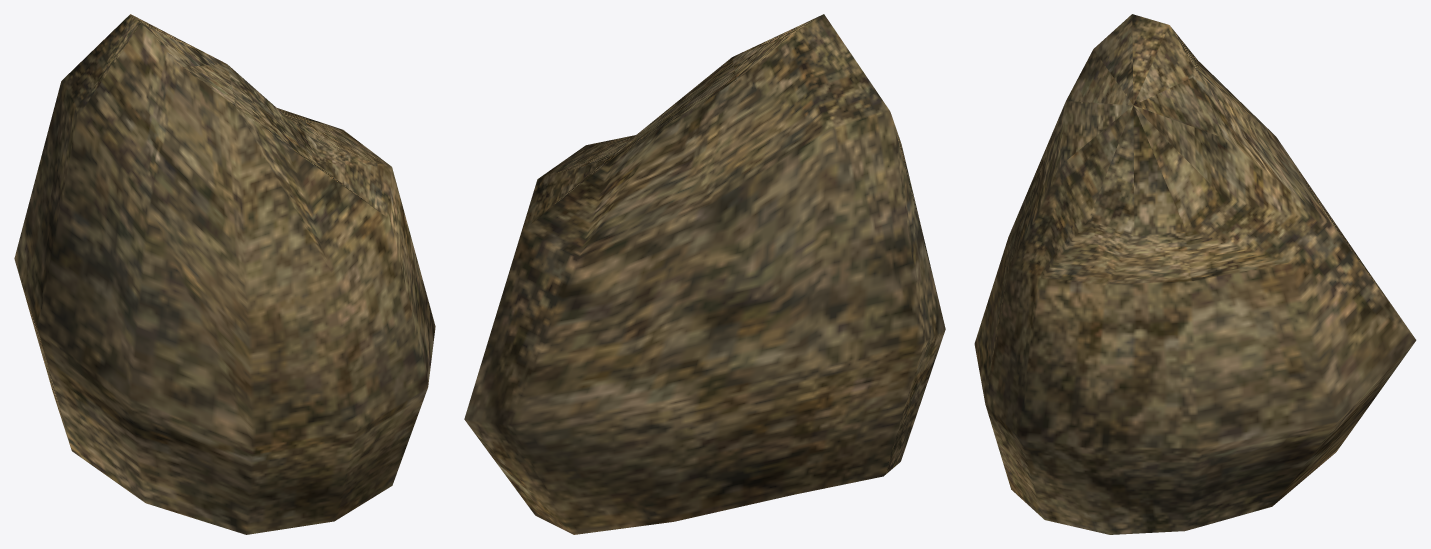
File: CH09_SMAUG_PLAYSURFACE_LONELYMOUNTAIN_LM_PLAYSURFACE24.fbx
The picture shows the model from 3 angles, left to right: view 1: azimuth 30°, elevation 25°; view 2: azimuth 150°, elevation 25°; view 3: azimuth 270°, elevation 25°; orthographic projection. The views are drawn at different scales.
Visible parts, largest first — view 1: CH09_SMAUG_PLAYSURFACE_LONELYMOUNTAIN_LM_PLAYSURFACE24; view 2: CH09_SMAUG_PLAYSURFACE_LONELYMOUNTAIN_LM_PLAYSURFACE24; view 3: CH09_SMAUG_PLAYSURFACE_LONELYMOUNTAIN_LM_PLAYSURFACE24.
Boxes of the visible parts, x1,y1,x2,y2 form: CH09_SMAUG_PLAYSURFACE_LONELYMOUNTAIN_LM_PLAYSURFACE24: [14, 14, 435, 534]; CH09_SMAUG_PLAYSURFACE_LONELYMOUNTAIN_LM_PLAYSURFACE24: [464, 14, 945, 534]; CH09_SMAUG_PLAYSURFACE_LONELYMOUNTAIN_LM_PLAYSURFACE24: [974, 14, 1416, 534].
Size of the model in its own units: 37351 by 45628 by 43323.
Materials: 1 (1 with a texture image).
